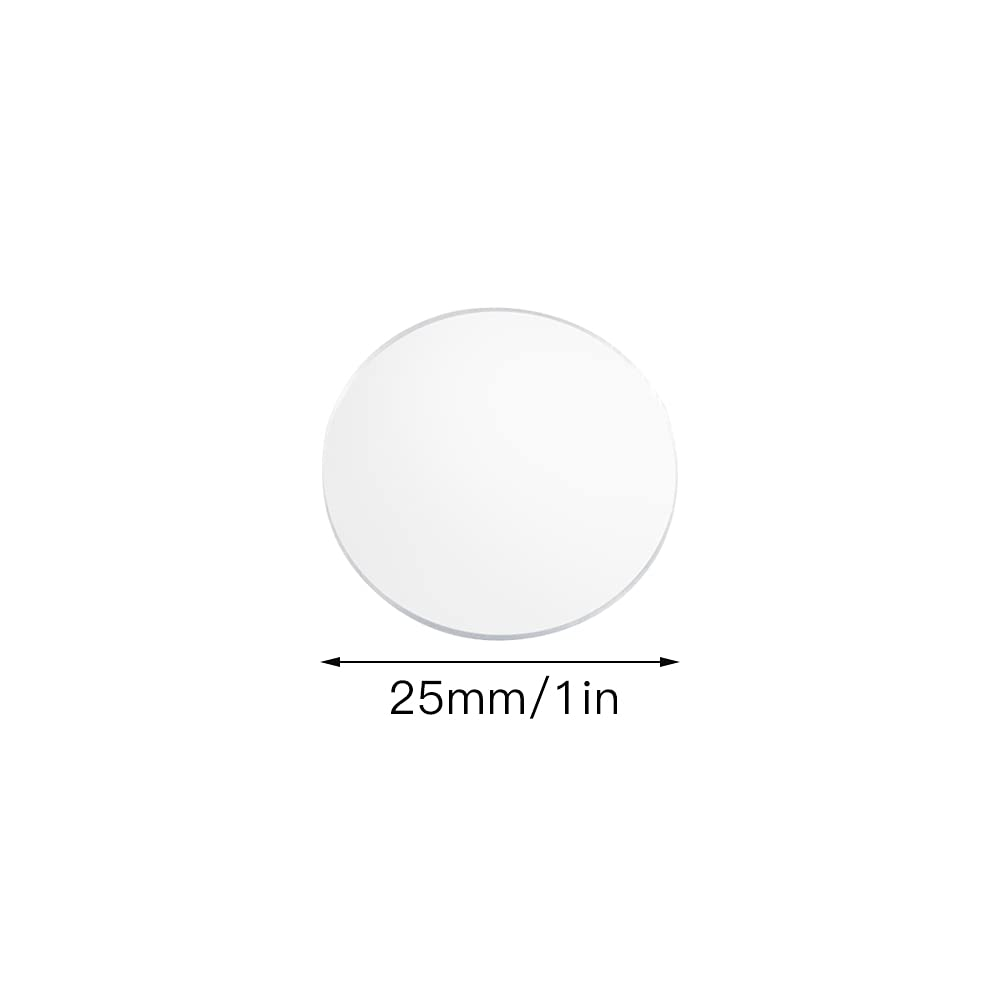25mm/1in: (391, 676, 617, 719)
